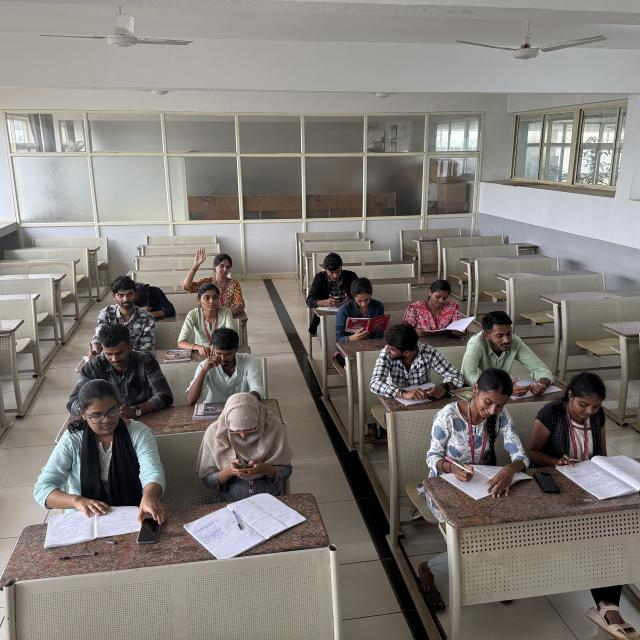Hand Rising: (184, 242, 258, 296)
Reading: (32, 394, 144, 534), (546, 370, 639, 477), (467, 315, 557, 392), (402, 278, 476, 336), (336, 276, 392, 337)
Sleeping: (134, 275, 178, 322)
Using Phone: (195, 393, 300, 480), (94, 330, 161, 414), (306, 253, 352, 305)
Writing: (432, 371, 518, 487), (75, 286, 141, 354)
